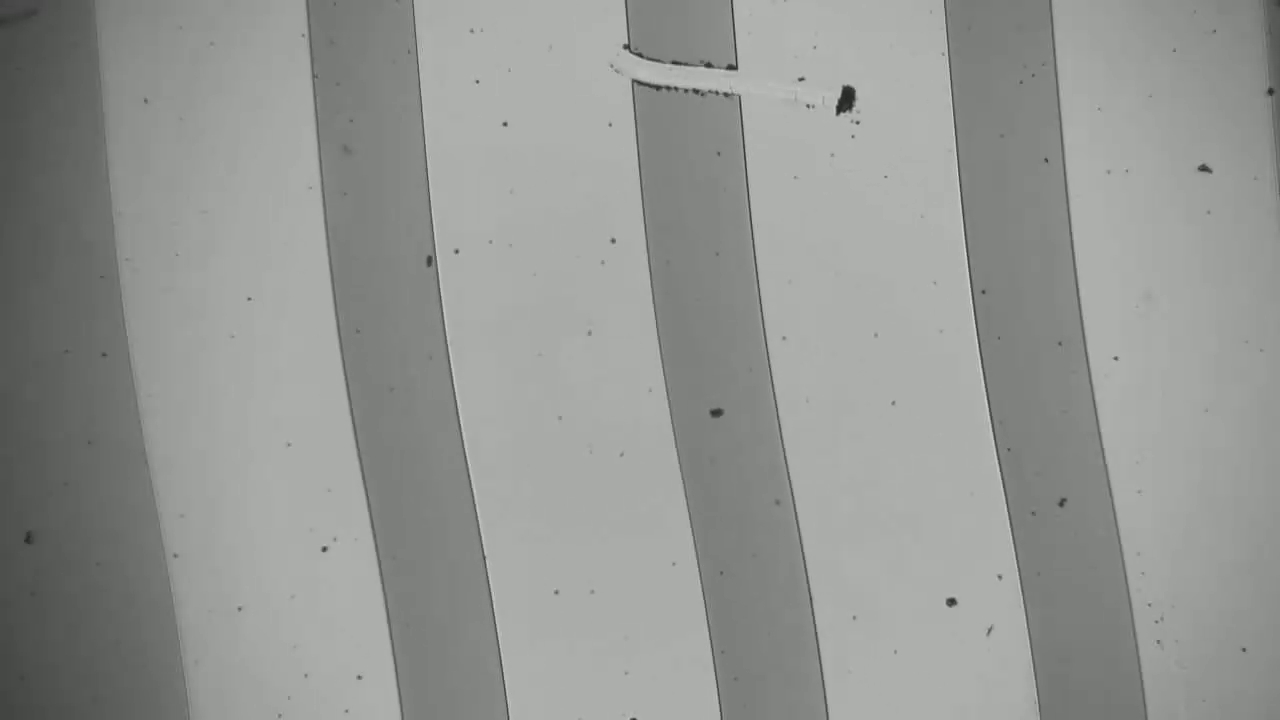Short_circuit: (599, 26, 771, 147)
